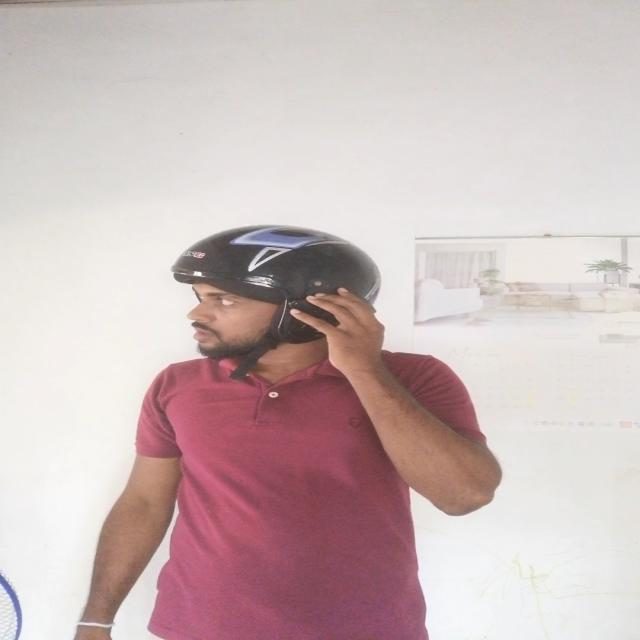Helmet_Wearer: (166, 216, 388, 378)
